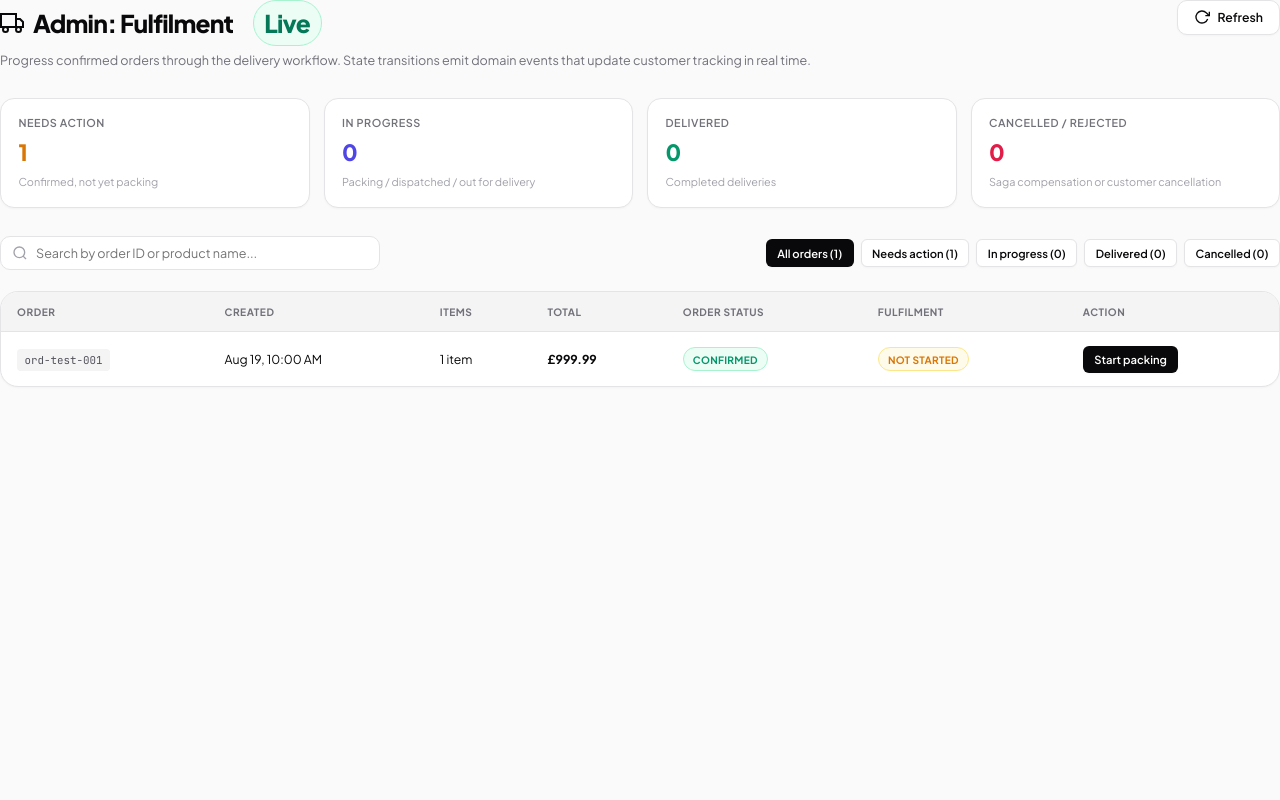
it: AdminFulfilmentPage › opens detail drawer on row click
Click the text "ord-test-001": (63, 360) left=17, top=349, right=110, bottom=371
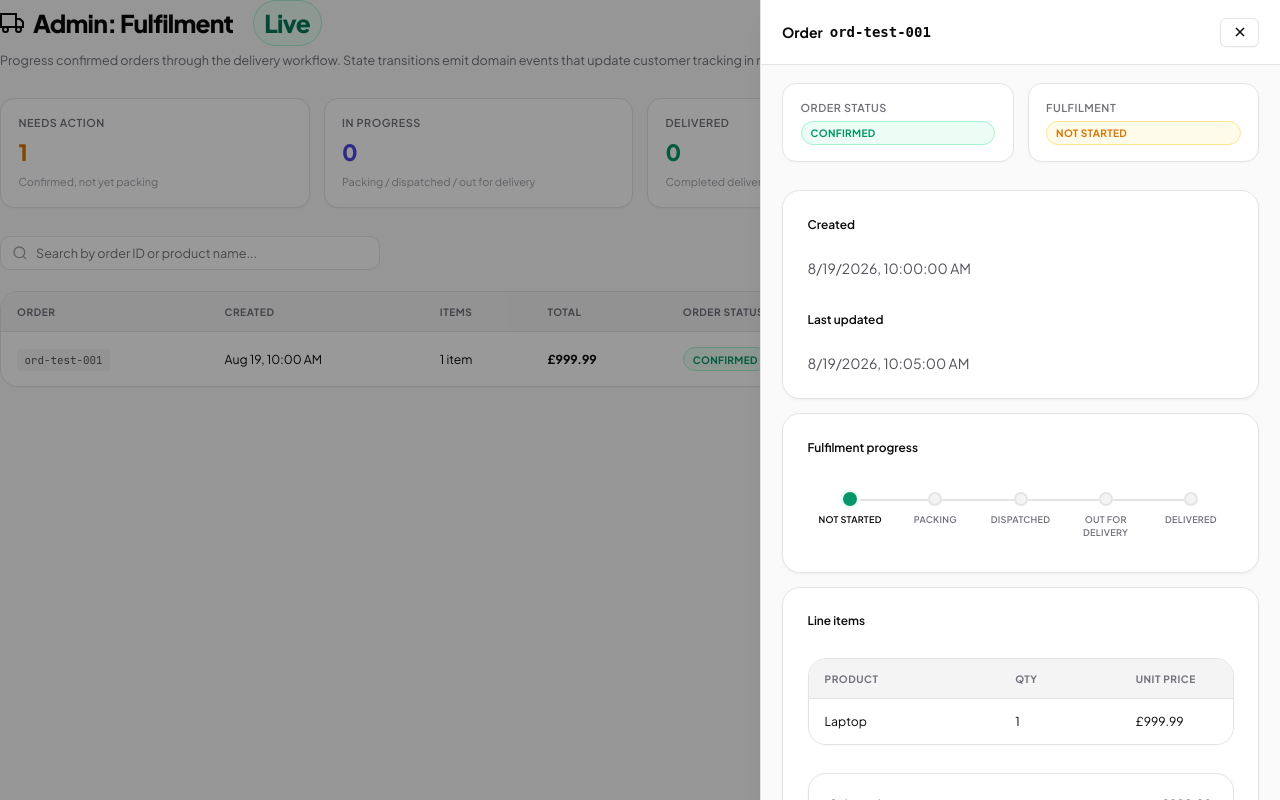
Result: the dialog is shown
Result: the text "ord-test-001" is shown at left=830, top=22, right=931, bottom=43
